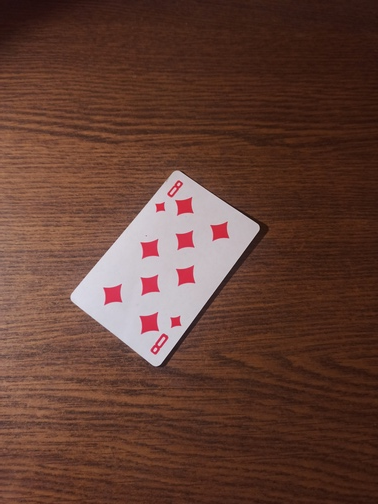eightdiamonds: (69, 171, 260, 367)
